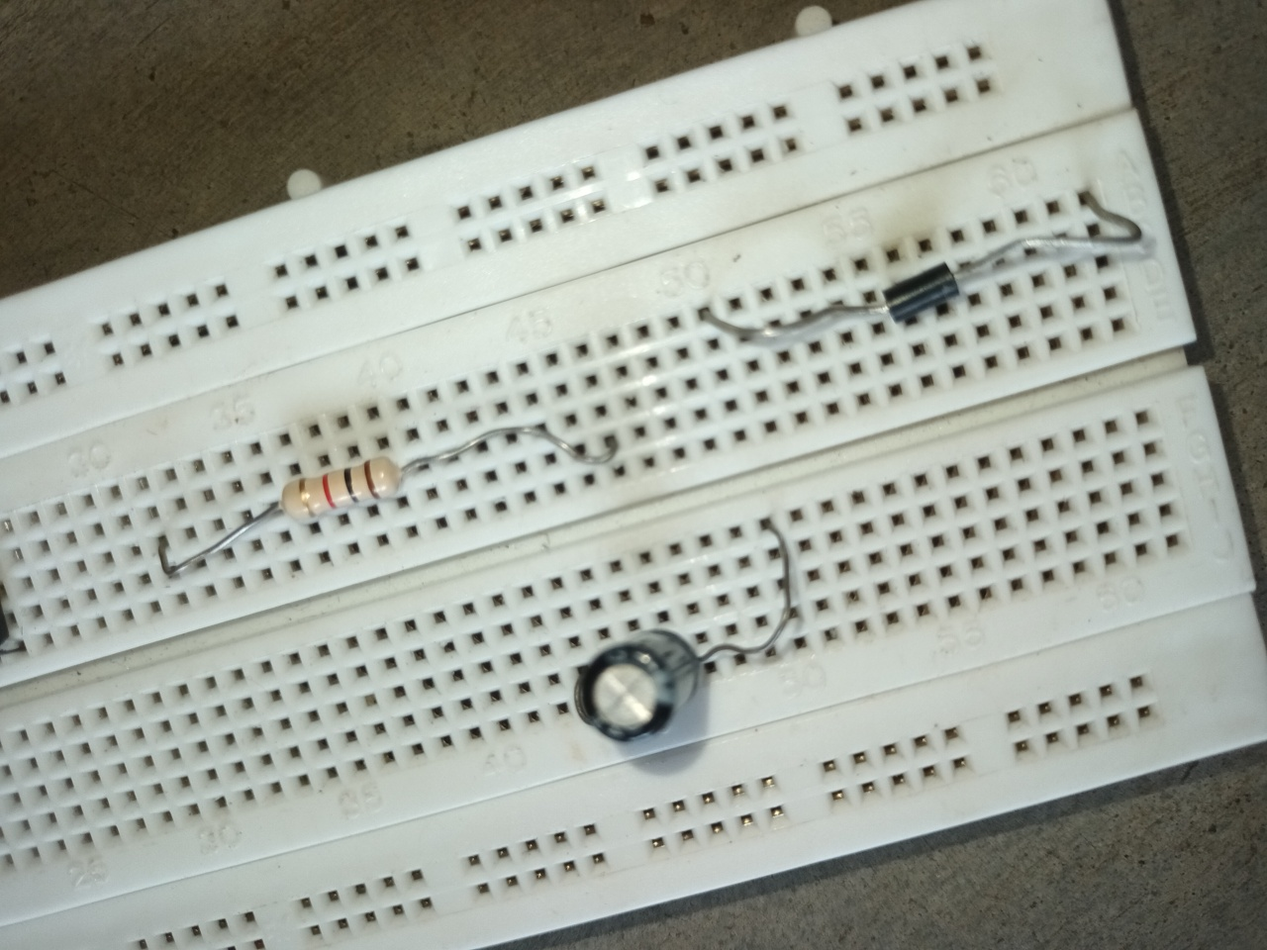capacitor: (574, 628, 704, 746)
resistor: (283, 456, 403, 527)
